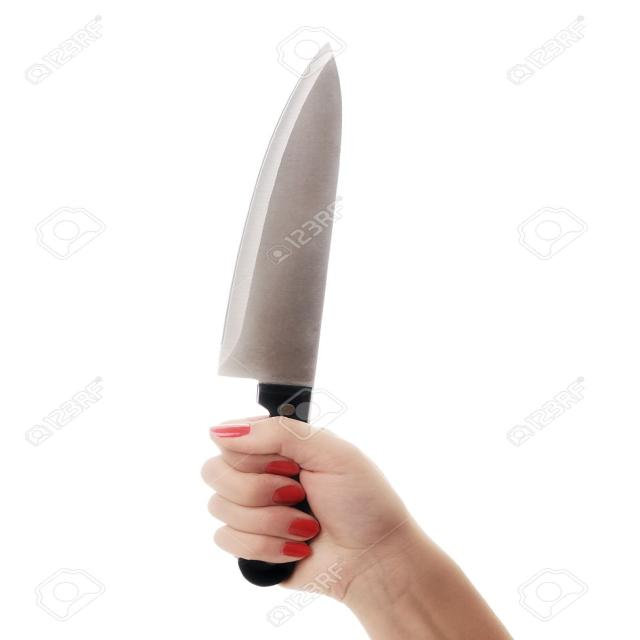knife: (201, 33, 366, 427)
